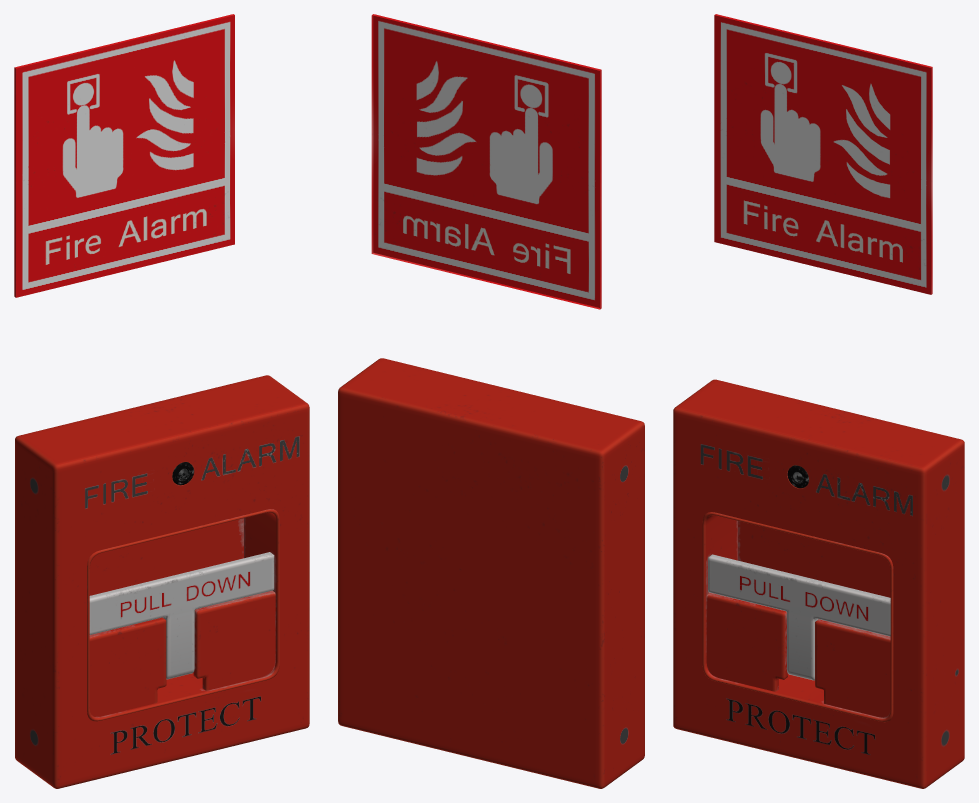
3 renders of one model, left to right at view 1: azimuth 30°, elevation 25°; view 2: azimuth 150°, elevation 25°; view 3: azimuth 330°, elevation 25°, orthographic. The views are drawn at different scales.
Visible parts, largest first — view 1: AM218_040_Fire Alarm; view 2: AM218_040_Fire Alarm; view 3: AM218_040_Fire Alarm.
Part boxes in pixels (x1=…): AM218_040_Fire Alarm: x1=14, y1=14, x2=309, y2=788; AM218_040_Fire Alarm: x1=338, y1=14, x2=644, y2=788; AM218_040_Fire Alarm: x1=673, y1=14, x2=964, y2=788.
Bounding box in the file's own units: 14 × 36.21 × 4.15.
Materials: 1 (1 with a texture image).
